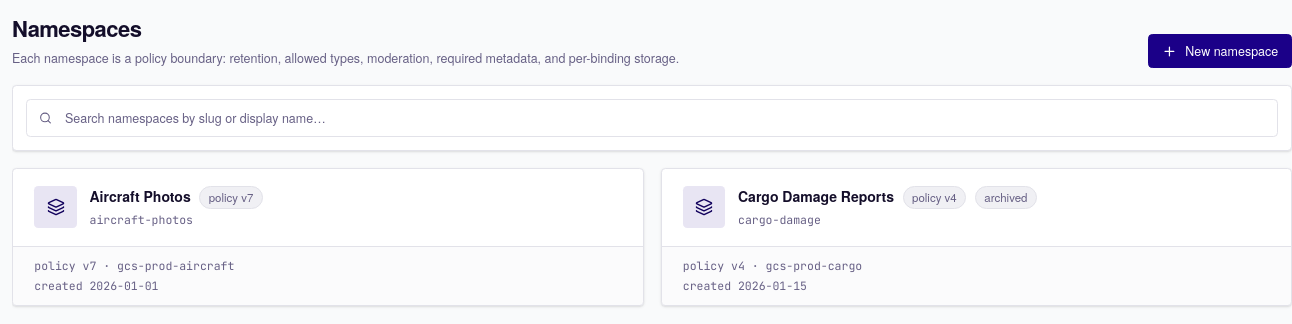
Test: NamespacesListPage — card grid › filters namespaces by search query
In the search field: (652, 118) left=26, top=99, right=1278, bottom=137, type "aircraft"
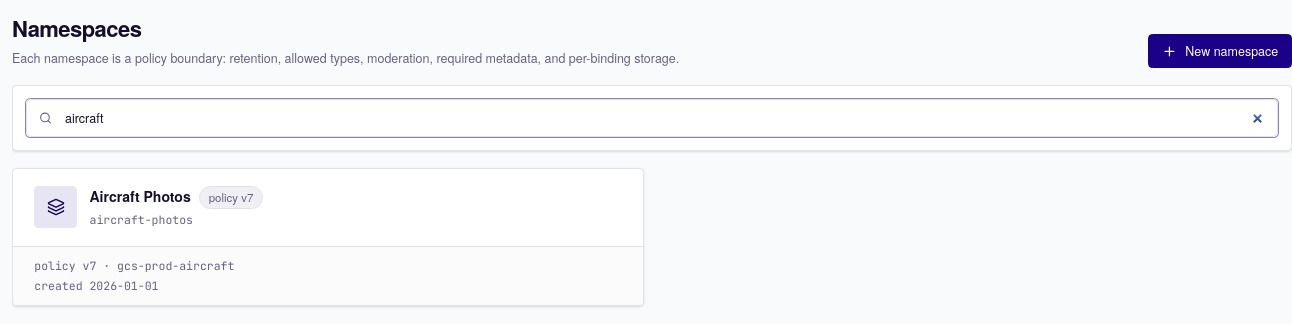
Expected: the heading "Aircraft Photos" is shown, left=90, top=186, right=191, bottom=207
Result: the link "Cargo Damage Reports" is gone
